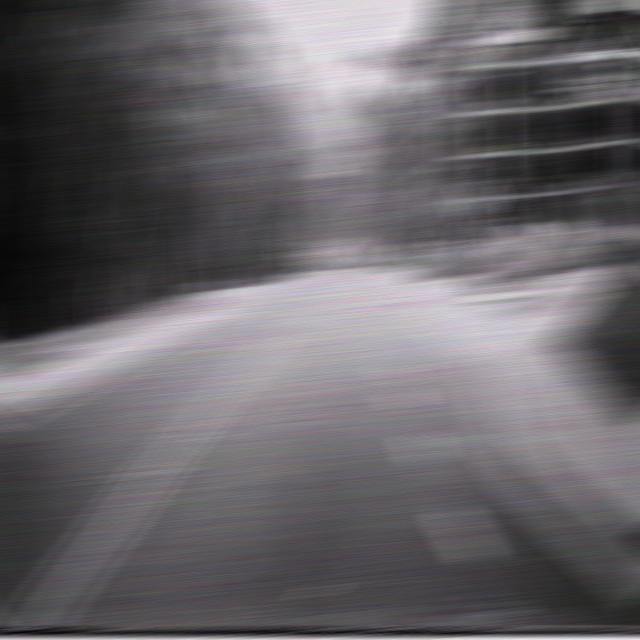pedestrianCrossing: (456, 180, 493, 217)
